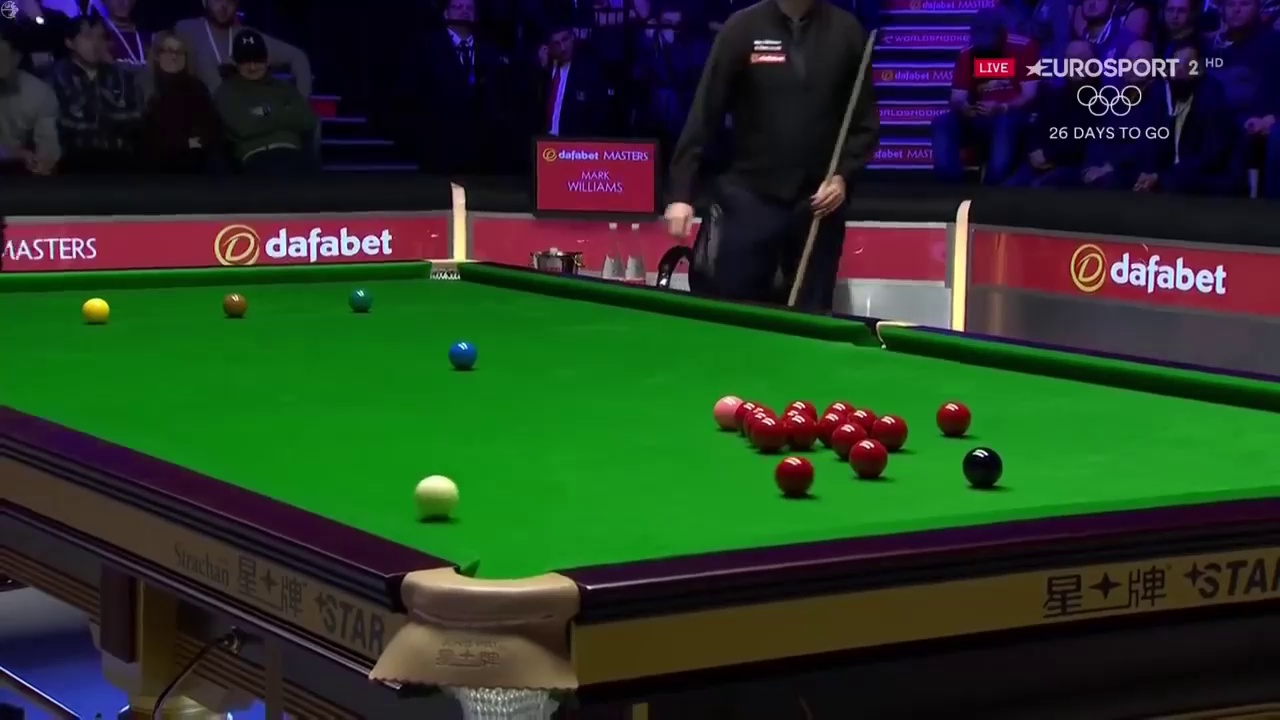black: (964, 449, 1002, 485)
blue: (448, 341, 478, 369)
brown: (223, 292, 246, 318)
green: (348, 286, 372, 309)
red: (774, 458, 814, 497), (848, 438, 887, 477), (935, 402, 970, 437), (751, 417, 782, 451), (785, 416, 814, 452)
white: (411, 475, 460, 517)
yellow: (77, 295, 112, 322)
